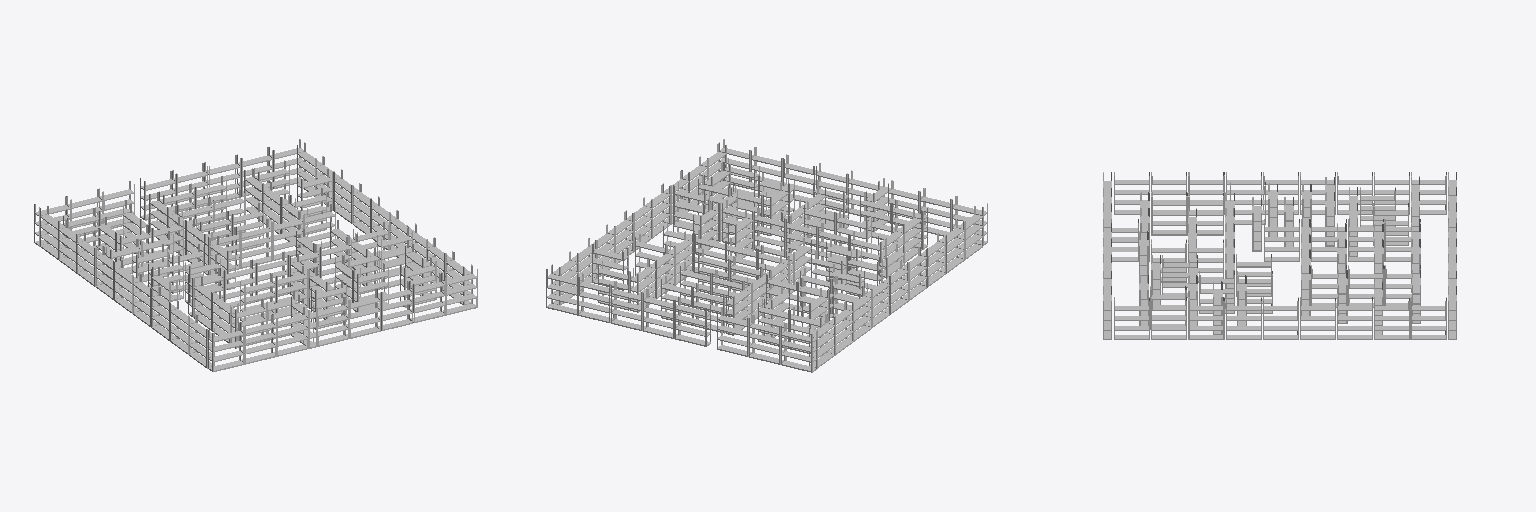
The model's file is maze test.obj.
The picture shows the model from 3 angles: view 1: azimuth 30°, elevation 25°; view 2: azimuth 150°, elevation 25°; view 3: azimuth 270°, elevation 25°; orthographic projection.
Visible parts, largest first — view 1: shelf94; view 2: shelf94; view 3: shelf94.
Part boxes in pixels (left/top/right/bottom): shelf94: left=34, top=139, right=477, bottom=371; shelf94: left=546, top=139, right=987, bottom=372; shelf94: left=1103, top=172, right=1456, bottom=339.
Bounding box in the file's own units: 77.34 × 10.89 × 89.28.